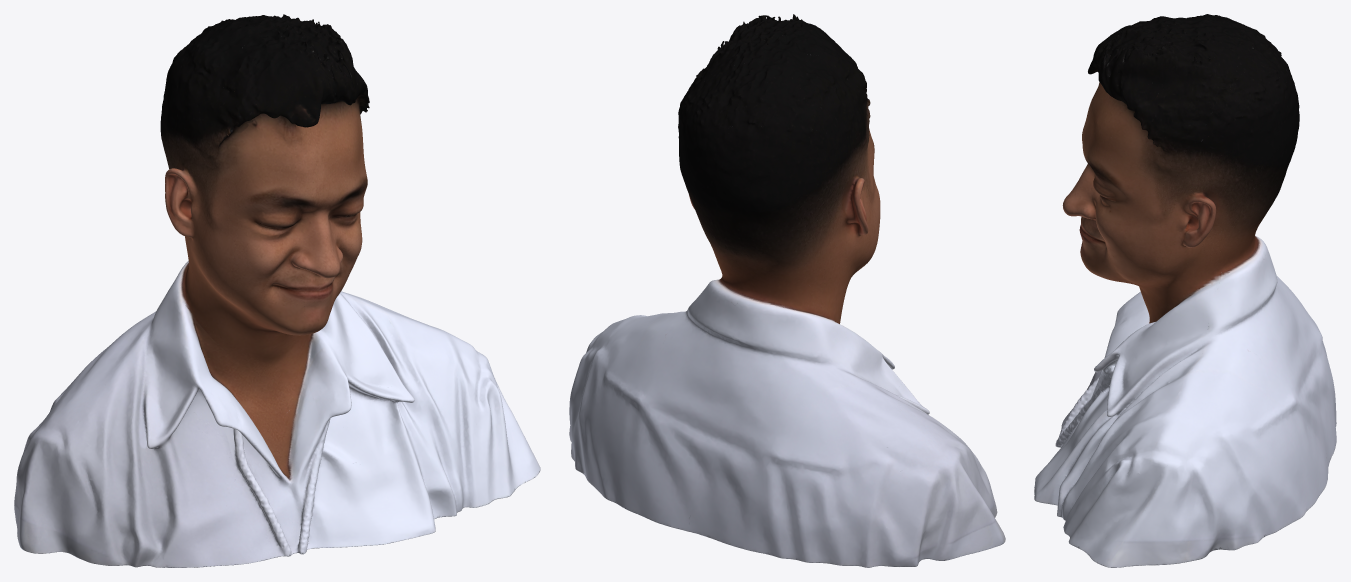
File: renz3d.glb
3 views of the same model, side by side, from view 1: azimuth 30°, elevation 25°; view 2: azimuth 150°, elevation 25°; view 3: azimuth 270°, elevation 25° (orthographic). The views are drawn at different scales.
Visible parts, largest first — view 1: mesh_node; view 2: mesh_node; view 3: mesh_node.
Part boxes in pixels (bbox=[...]): mesh_node: bbox=[14, 14, 540, 567]; mesh_node: bbox=[569, 14, 1005, 567]; mesh_node: bbox=[1034, 14, 1336, 567].
Bounding box in the file's own units: 1.9 × 1.8 × 1.12.
1 material, 1 textured.
